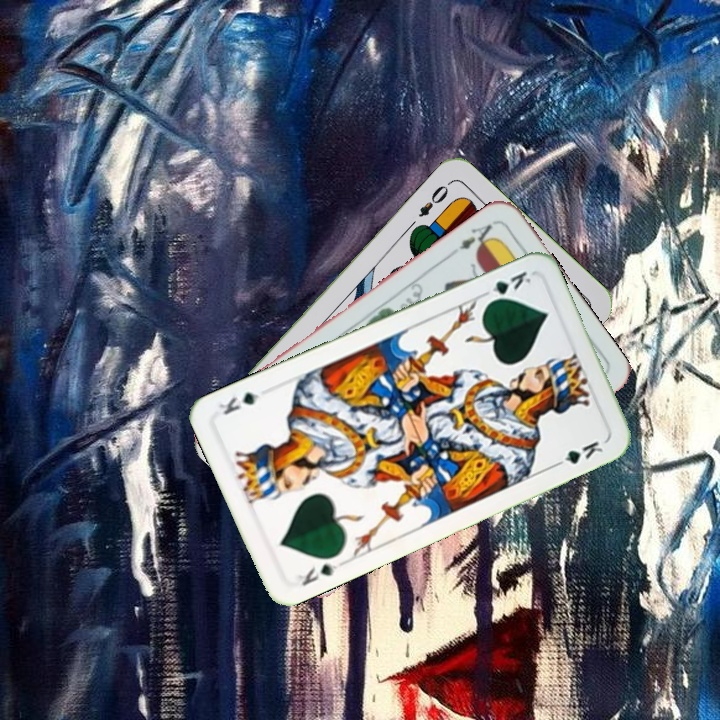EA: (455, 217, 498, 254)
EO: (414, 181, 451, 220)
GK: (478, 267, 534, 307), (294, 558, 345, 589)
